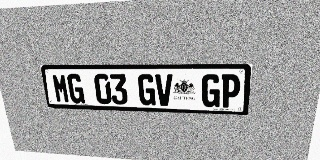0: (93, 74, 112, 104)
3: (110, 74, 128, 105)
G: (201, 74, 221, 107), (138, 74, 156, 105), (66, 74, 85, 103)
M: (51, 74, 70, 103)
P: (220, 74, 241, 108)
V: (155, 74, 173, 106)
